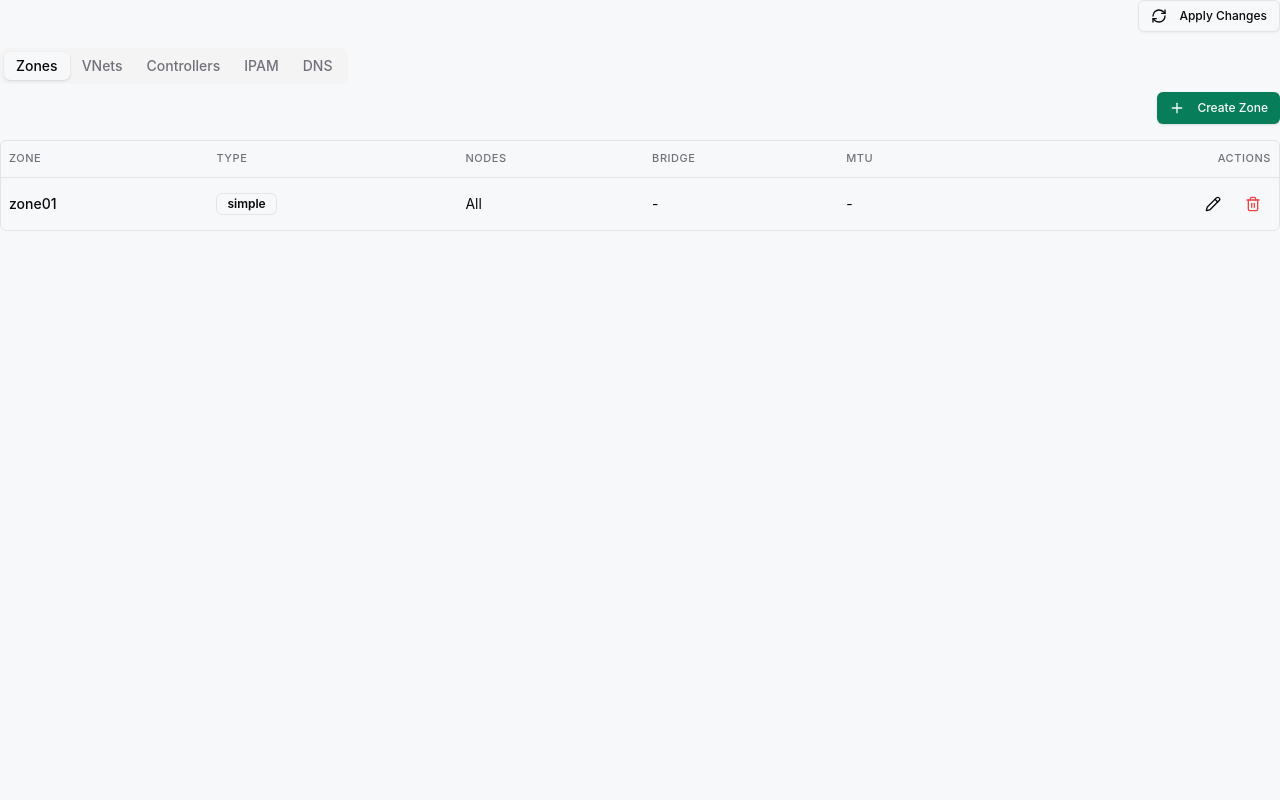
Test: SDNTable — deleting a subnet › Cancel sends nothing
This screenshot has width=1280, height=800.
Click the tab "VNets".
click(102, 66)  # box [70,52,134,80]
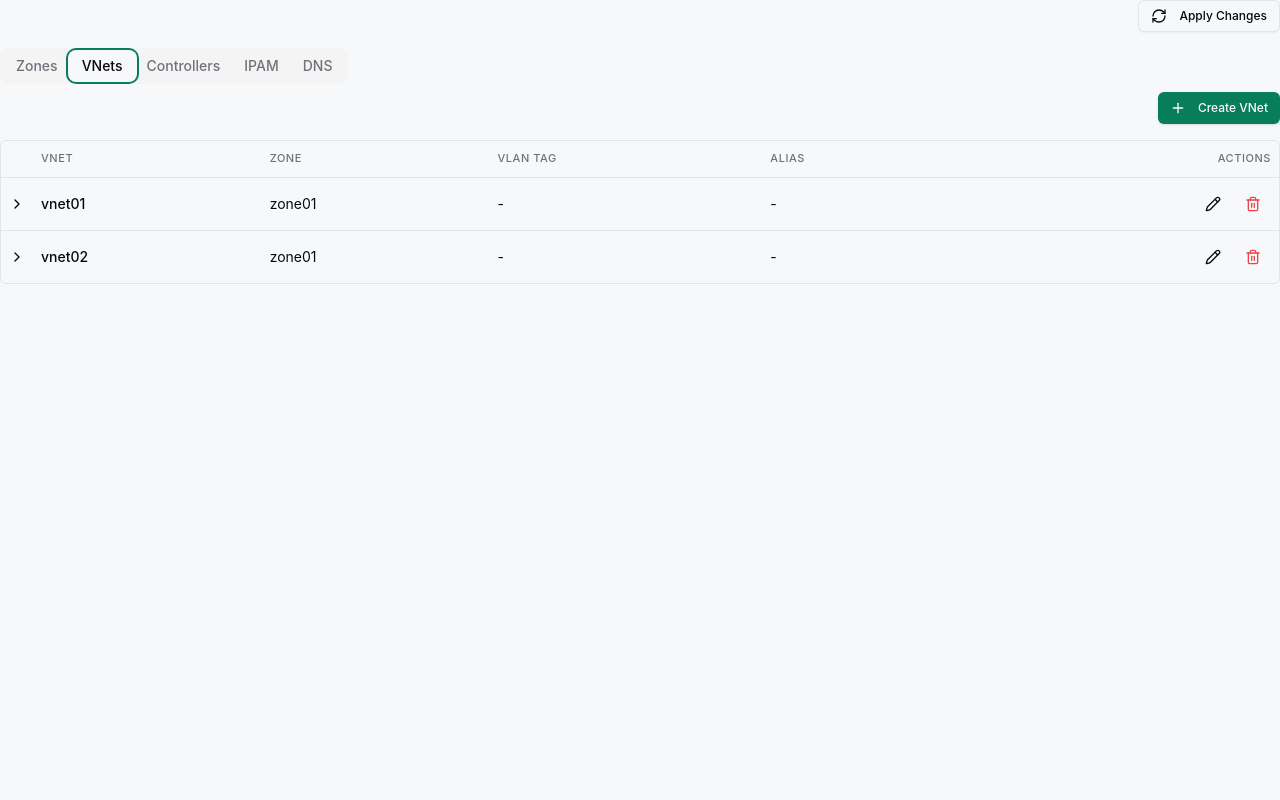
Click the text "vnet01".
click(63, 203)  # box [33,177,262,230]
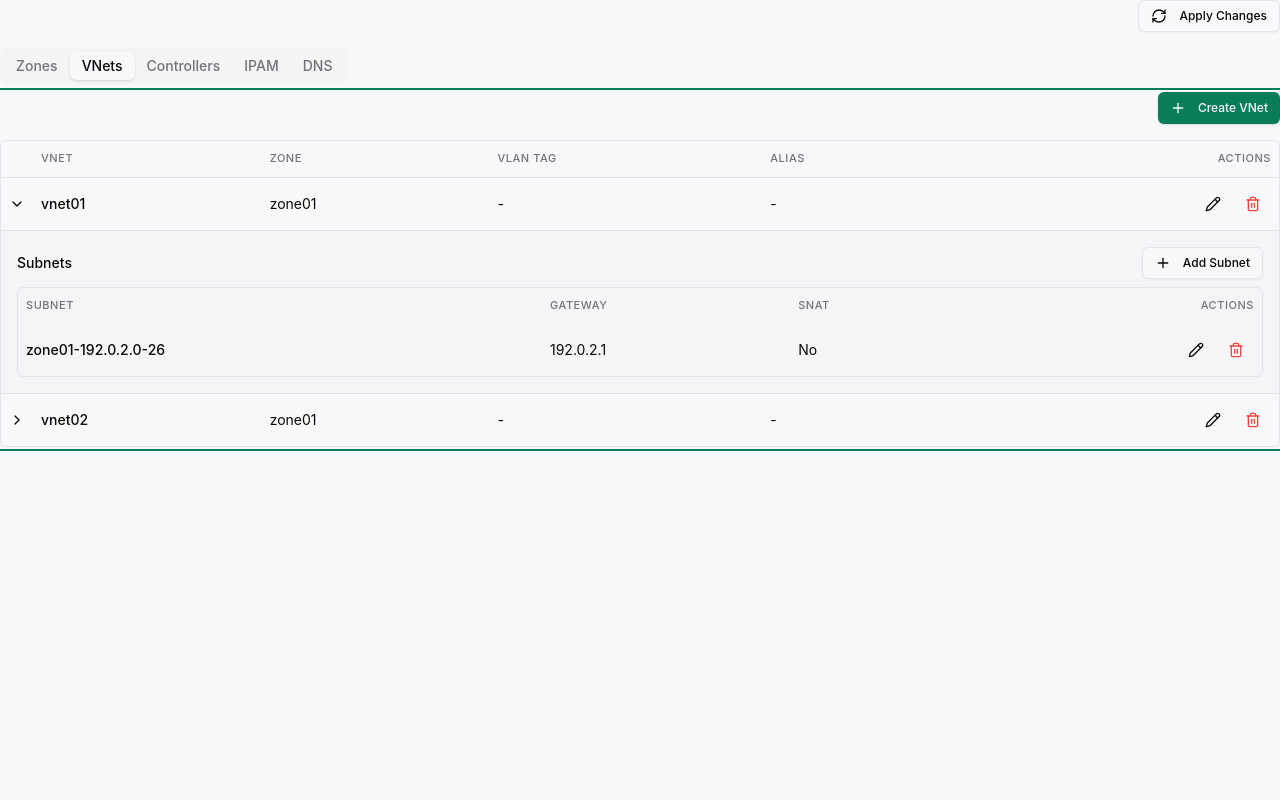
Click the text "vnet02".
click(65, 419)  # box [33,393,262,446]
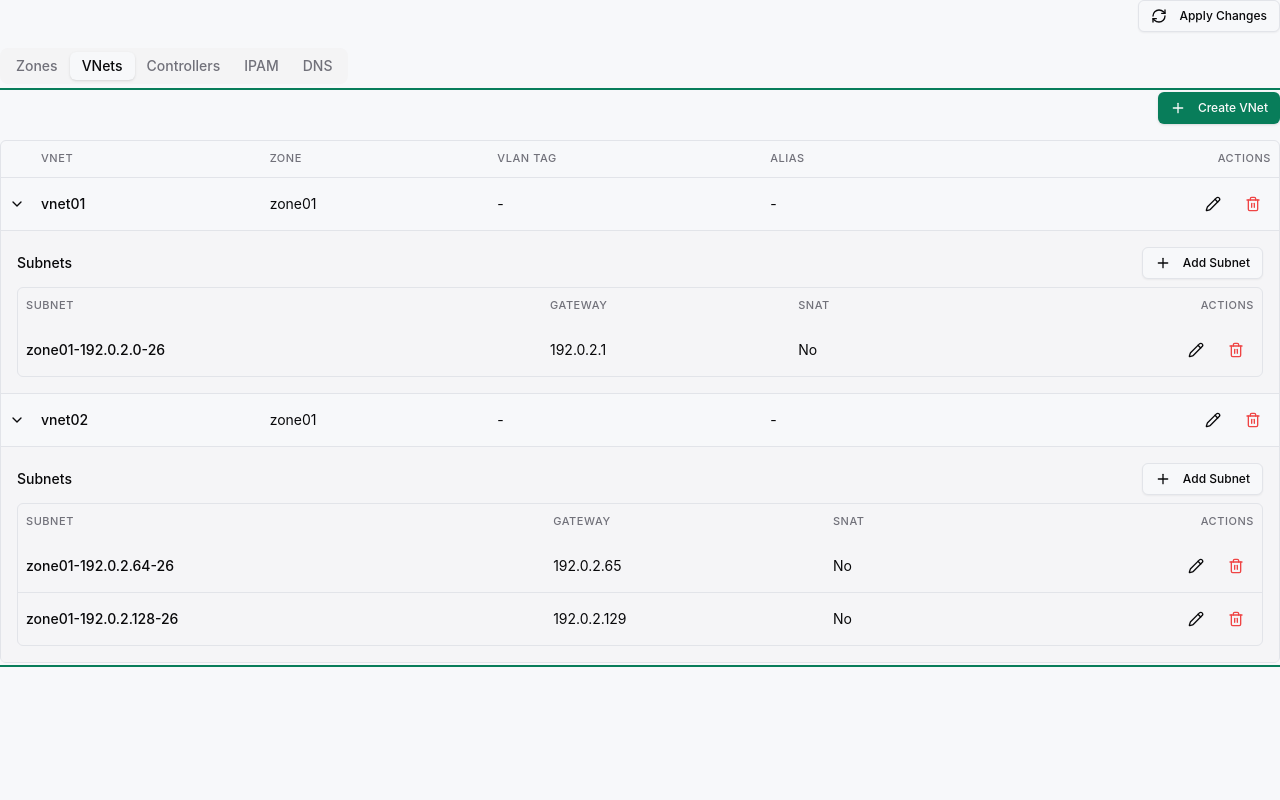
Click the button named "Delete Subnet zone01-192.0.2.128-26".
click(1236, 618)  # box [1218,600,1254,636]
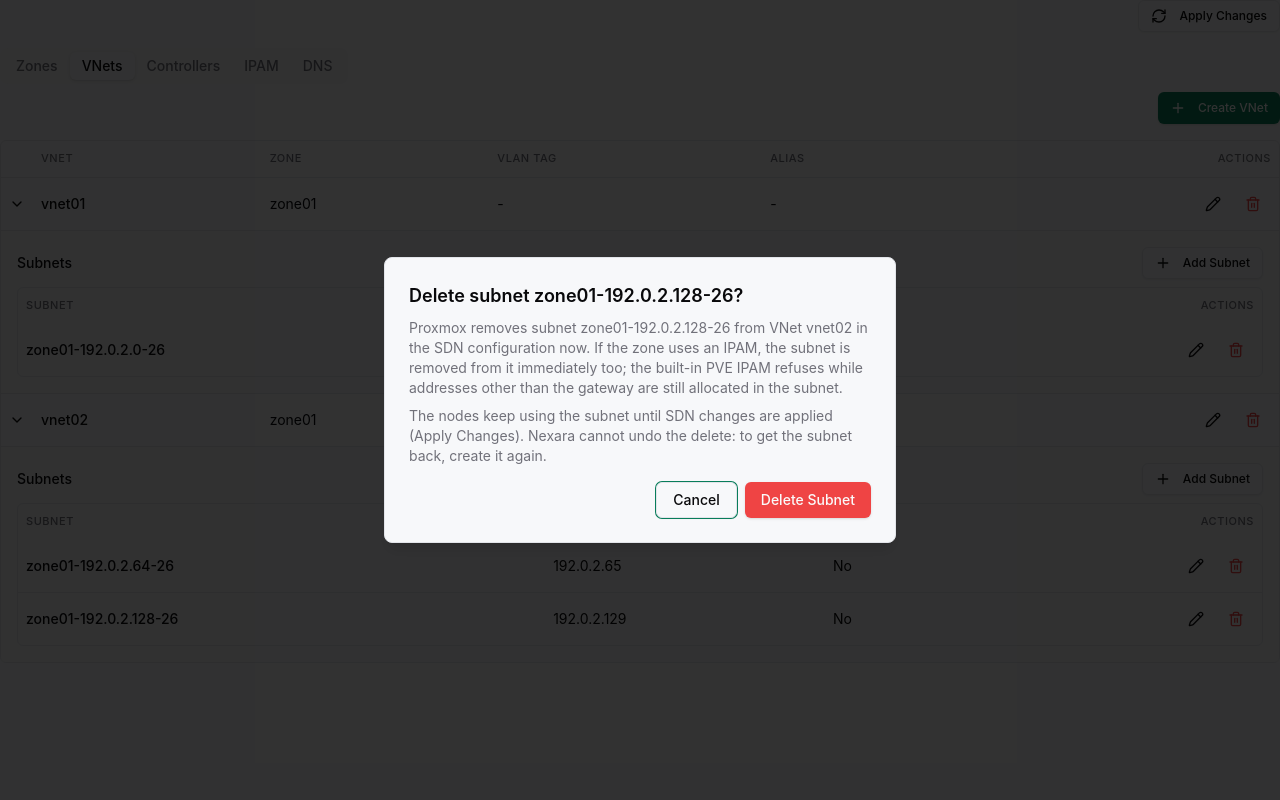
Click the button "Cancel".
click(697, 500)  # box [656,482,737,518]
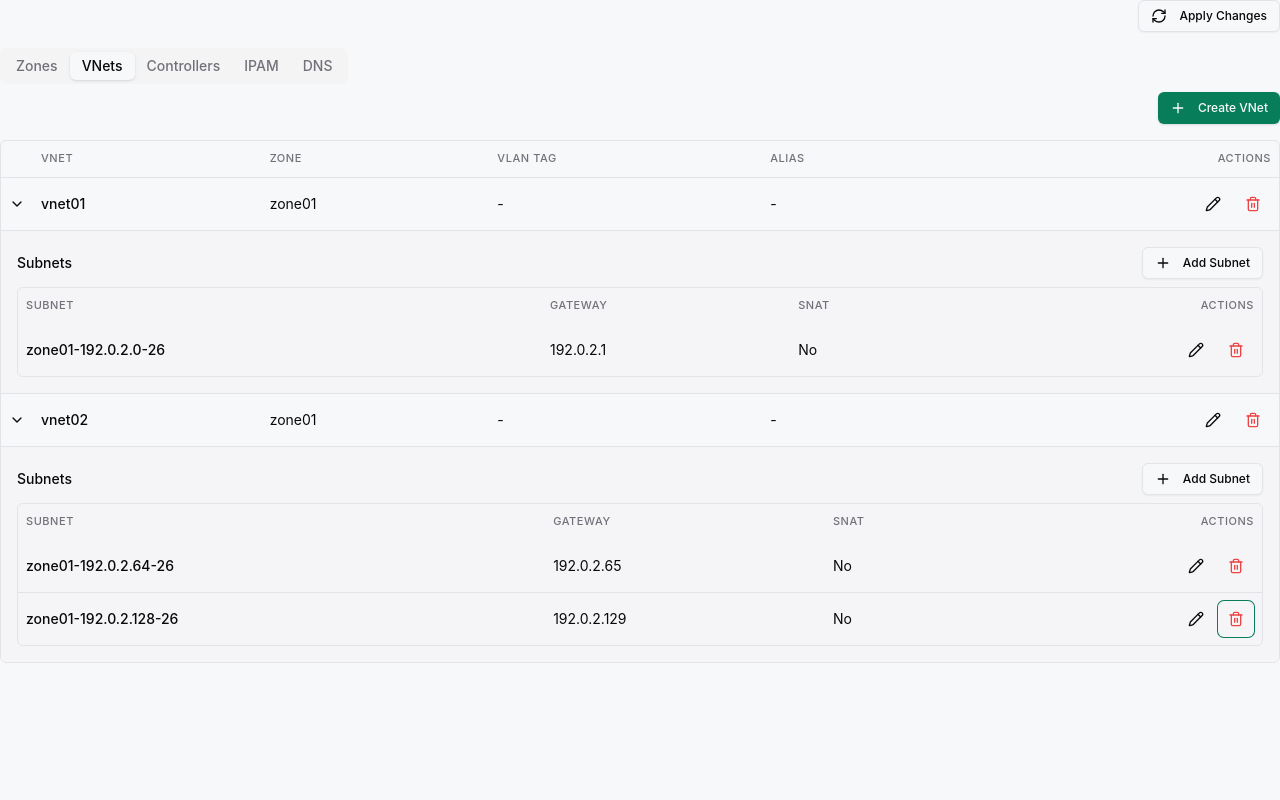
Expected: the dialog is gone
